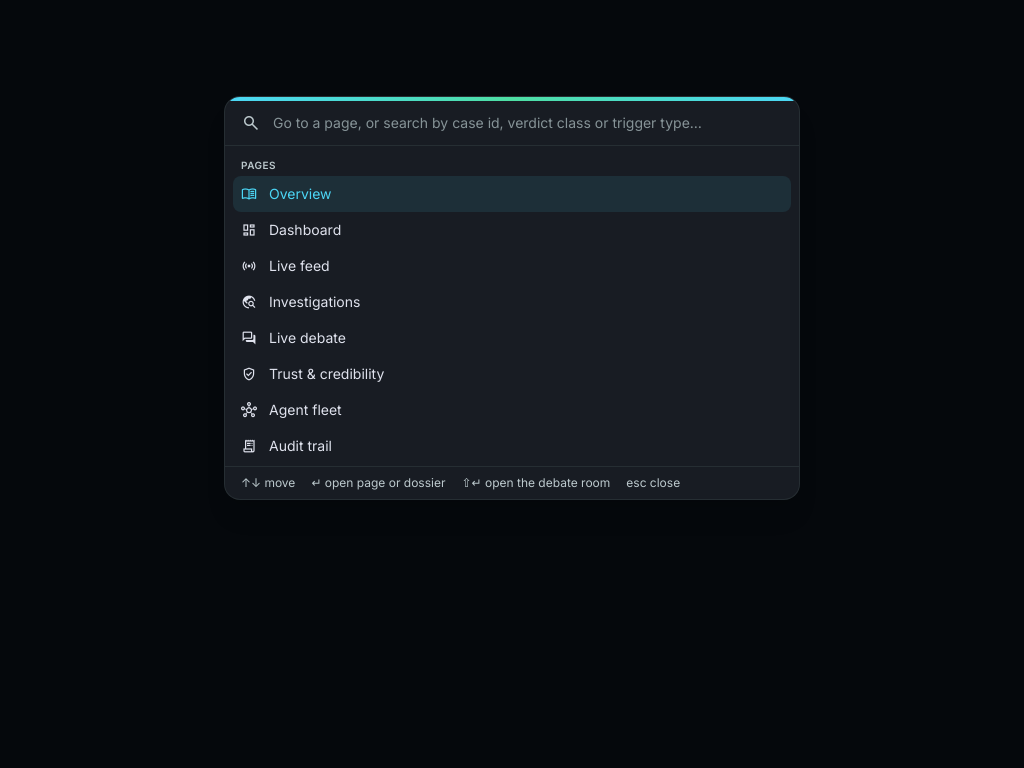
Test: CommandPalette › searches investigations by the typed text and says so when none match
The image size is (1024, 768).
Step 1. Replace the text in the dropdown named "Search pages and investigations" with "zzz" → (528, 123), box x1=273 y1=113 x2=783 y2=133
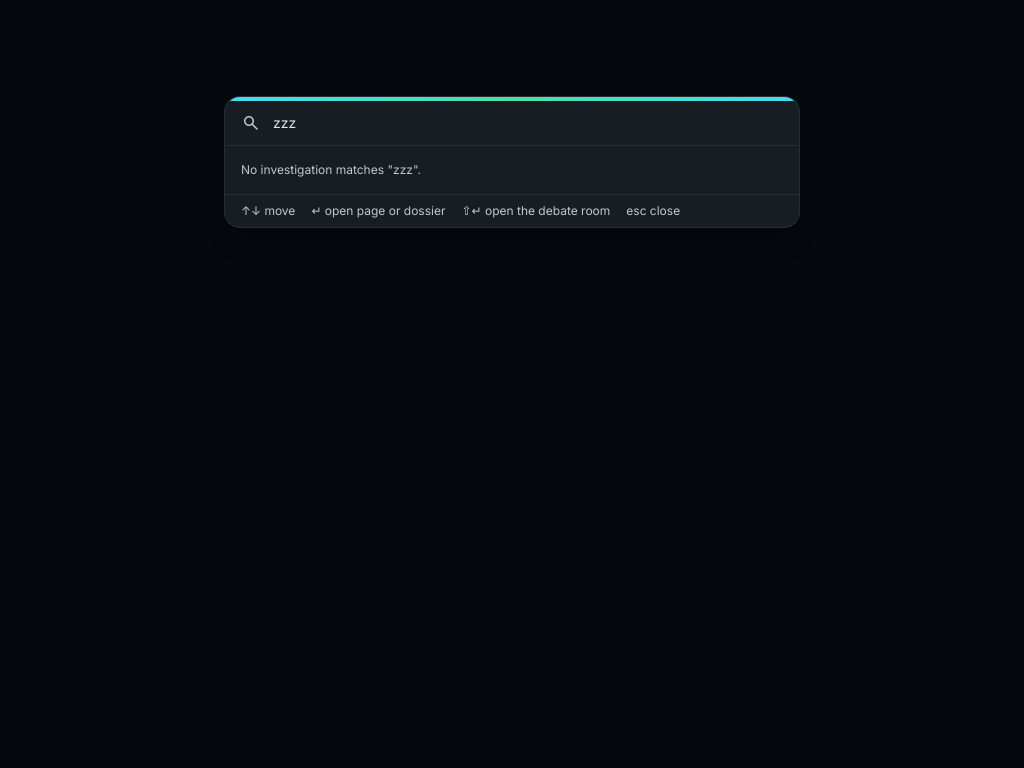
expect the text "No investigation matches \"zzz\"." is shown: met, box x1=241 y1=162 x2=421 y2=177
